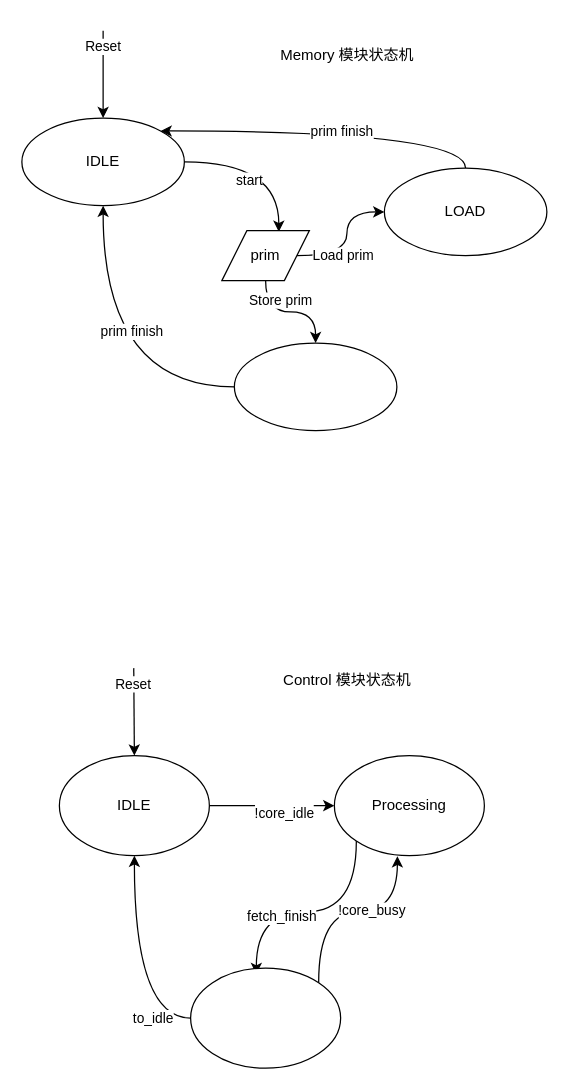
This 569x1090 diagram has some shape labels left out. The box of each missing label's shape, as (x1, y1, x2, y2) in pixels:
Executing: (189, 967, 341, 1068)
STORE: (233, 342, 397, 431)
